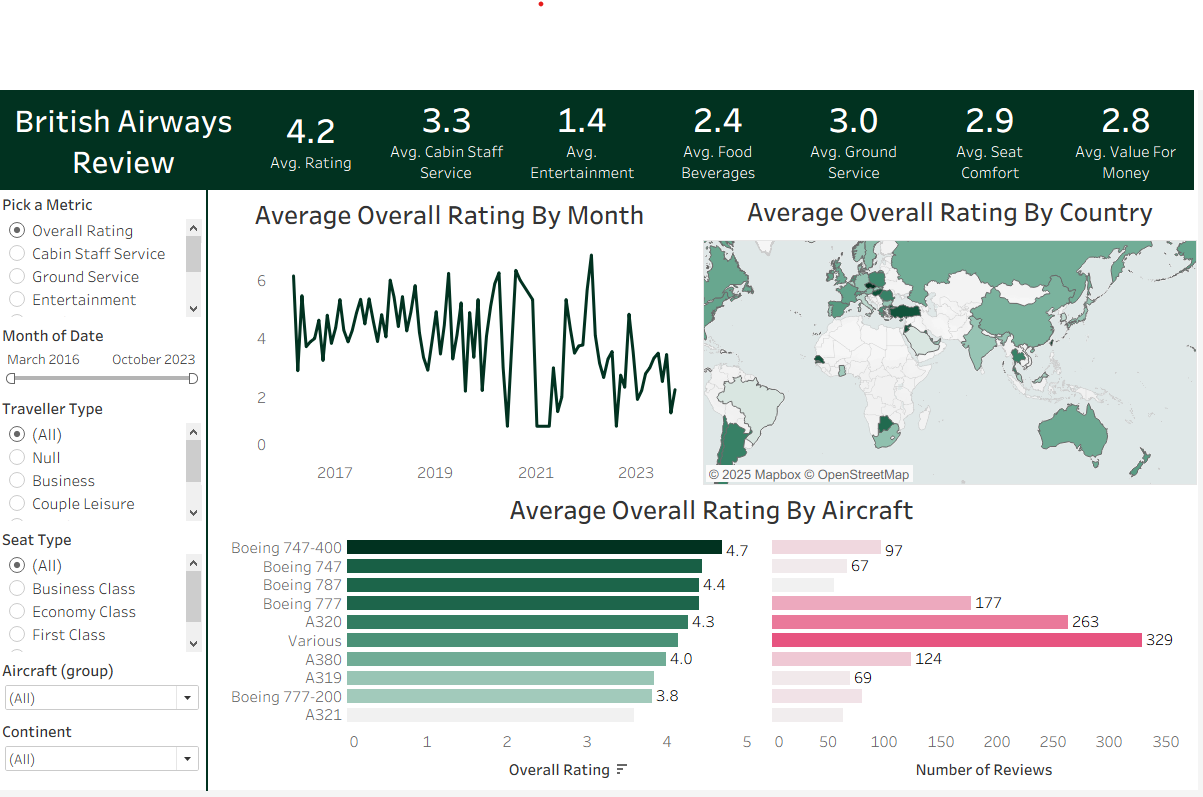

Layout of this report page (visuals, bound fields, positions):
{"tool":"tableau","page":{"name":"Dashboard 1","canvas":[1200,700],"ordinal":0},"visuals":[{"type":"text","box":[0,0,251,100]},{"type":"worksheet","title":"Summary","mark":"Automatic","box":[245,0,951,100]},{"type":"blank","box":[208,93,2,608]},{"type":"parameter","param":"[Parameters].[Parameter 1]","box":[0,100,208,131]},{"type":"worksheet","title":"Map","mark":"Automatic","box":[705,100,494,295]},{"type":"worksheet","title":"Month","mark":"Automatic","rows":["Calculation_708191094387916800"],"cols":["date"],"box":[203,103,497,292]},{"type":"filter","title":"Map","param":"[federated.1eod2xe110yhzz1h6vcuc1ixpok5].[tmn:date:qk]","box":[0,231,208,73]},{"type":"filter","title":"Map","param":"[federated.1eod2xe110yhzz1h6vcuc1ixpok5].[none:traveller_type:nk]","box":[0,304,208,131]},{"type":"worksheet","title":"Aircraft","mark":"Automatic","cols":["Calculation_708191094387916800","ba_reviews.csv_2845AE7A7FE14DD3A6DDA9BFAE17D45A"],"box":[229,398,969,299]},{"type":"filter","title":"Map","param":"[federated.1eod2xe110yhzz1h6vcuc1ixpok5].[none:seat_type:nk]","box":[0,435,208,131]},{"type":"filter","title":"Map","param":"[federated.1eod2xe110yhzz1h6vcuc1ixpok5].[Aircraft (group)]","box":[0,566,208,61]},{"type":"filter","title":"Map","param":"[federated.1eod2xe110yhzz1h6vcuc1ixpok5].[none:Continent:nk]","box":[0,627,208,61]}]}

Visuals, with their boxes on the page's 1200x700 design canvas (x1, y1, x2, y2). These are canvas units, not pixel positions in the 1203x797 screenshot, which may show the page scaled, cropped or inside an application window:
text: 0,0,251,100
"Summary" worksheet: 245,0,1196,100
blank: 208,93,210,701
parameter: 0,100,208,231
"Map" worksheet: 705,100,1199,395
"Month" worksheet: 203,103,700,395
"Map" filter: 0,231,208,304
"Map" filter: 0,304,208,435
"Aircraft" worksheet: 229,398,1198,697
"Map" filter: 0,435,208,566
"Map" filter: 0,566,208,627
"Map" filter: 0,627,208,688
